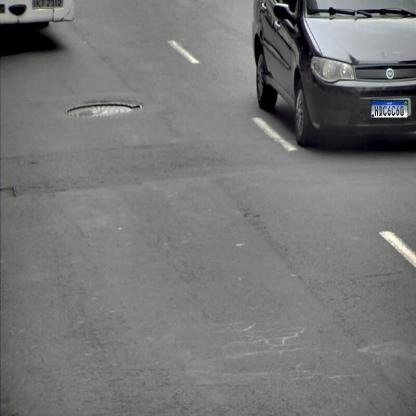PlacaM: (371, 100, 408, 118)
